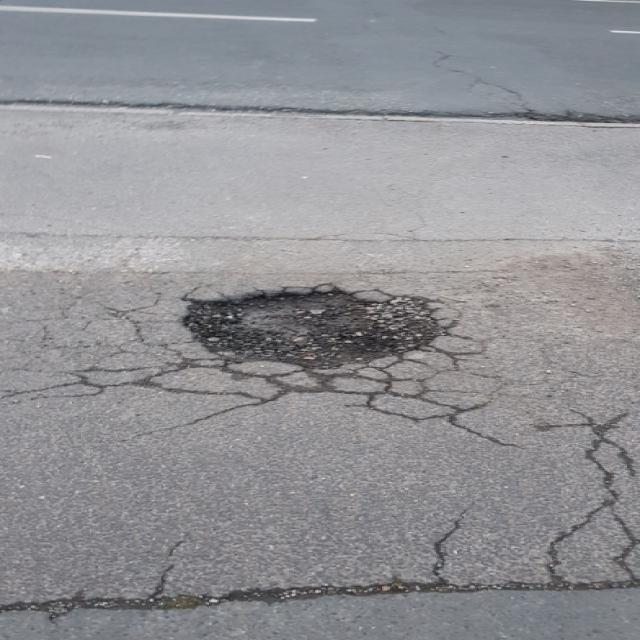Pothole: (171, 281, 454, 376)
